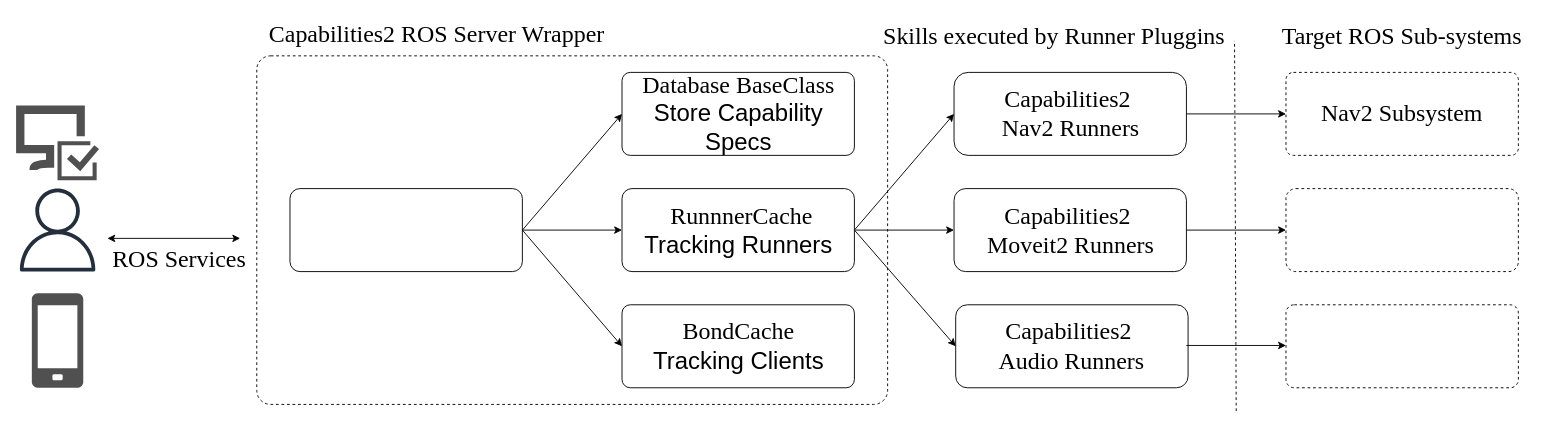
The diagram is 1558 pixels wide and 428 high, and some of its shapes have lost their labels. The shapes that lost their labels are listed below. From the top down, each one's box as (x1, y1, x2, y2) in pixels, then its label:
(289, 188, 522, 272): Capabilities2 API
(1285, 188, 1518, 272): Moveit2 Subsystem
(1285, 304, 1518, 388): Audio Subsystem
